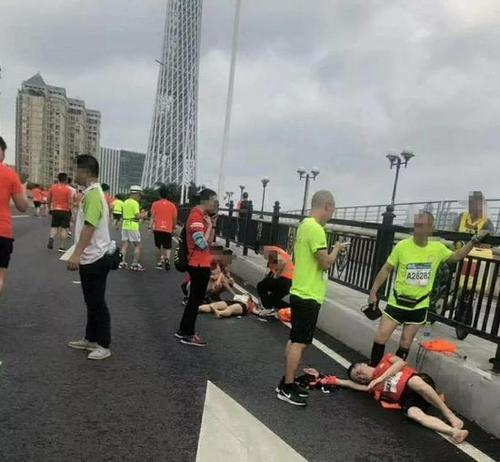10+: (1, 132, 500, 449)
down: (309, 349, 477, 446), (194, 287, 264, 322)
